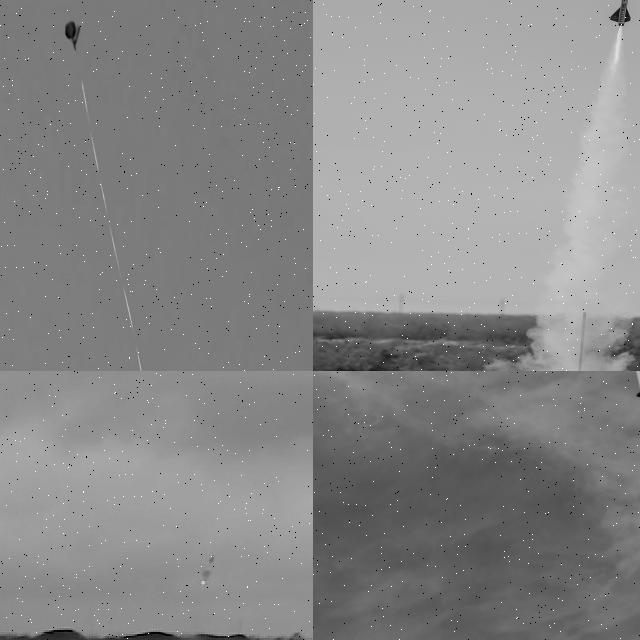Rocket: (610, 0, 636, 26), (198, 554, 217, 581), (630, 371, 640, 401)
